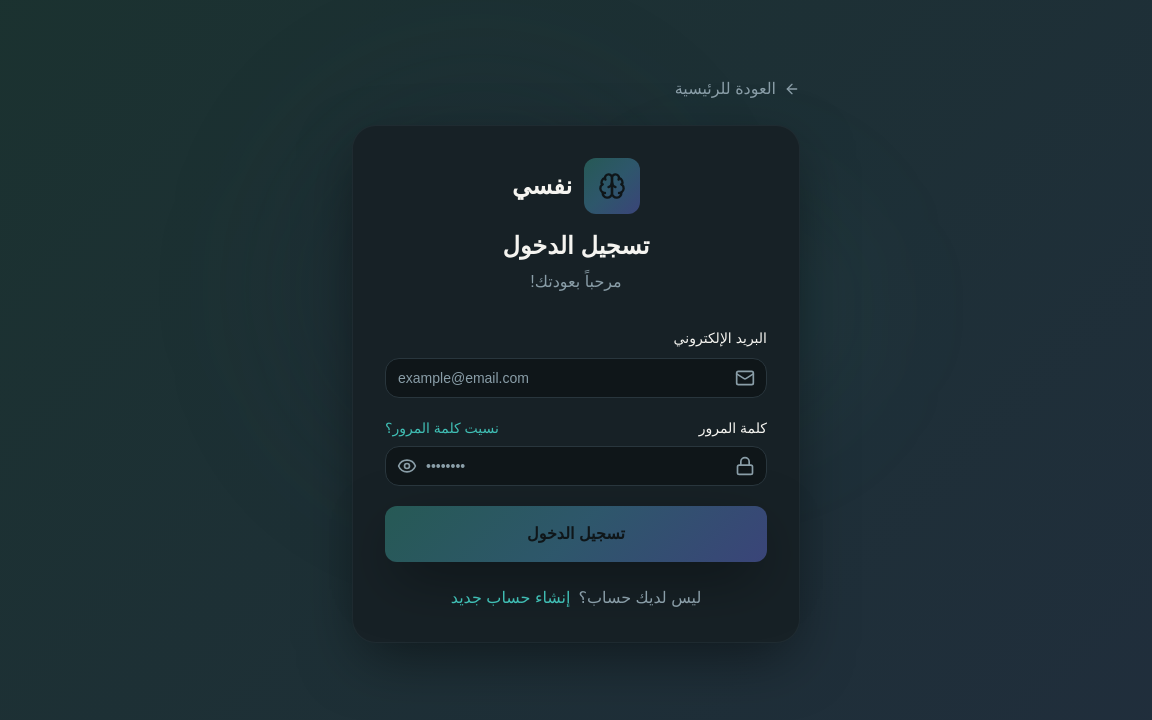
Test: Auth - Login flow › blocks invalid email and short password (edge cases)
The width and height of the screenshot is (1152, 720).
Type "not-an-email" into the field labelled "البريد الإلكتروني" at (576, 378), box [385,358,767,398]
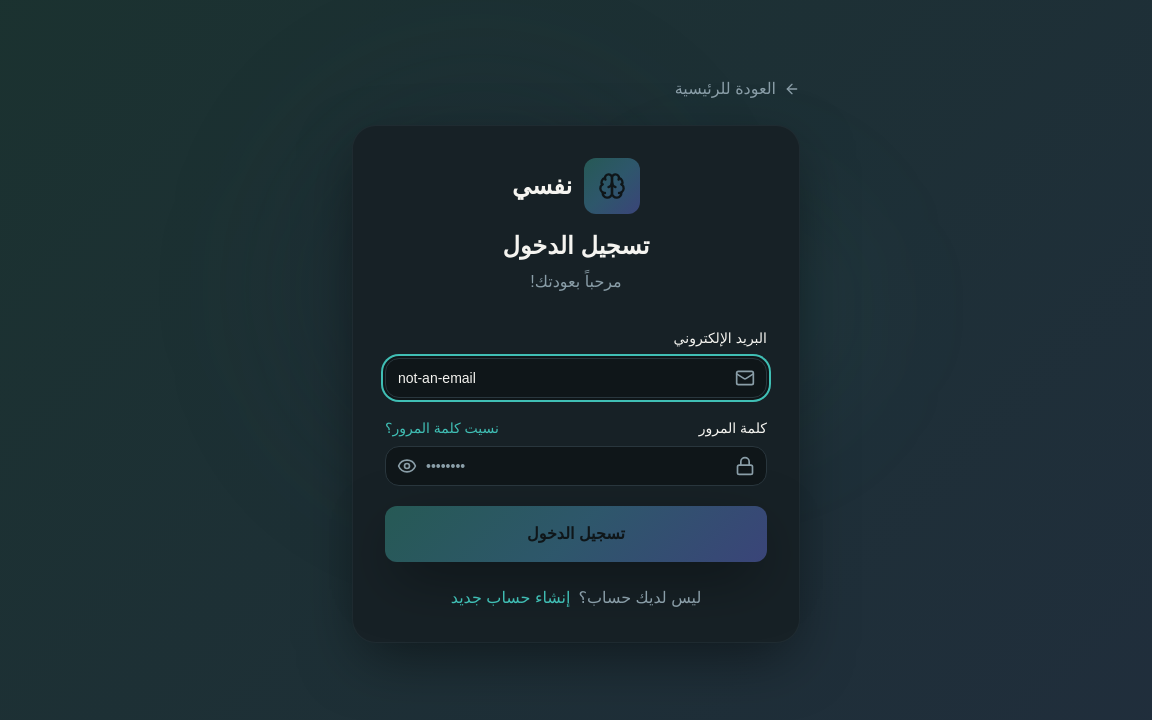
Type "123" into the password field labelled "كلمة المرور" at (576, 466), box [385,446,767,486]
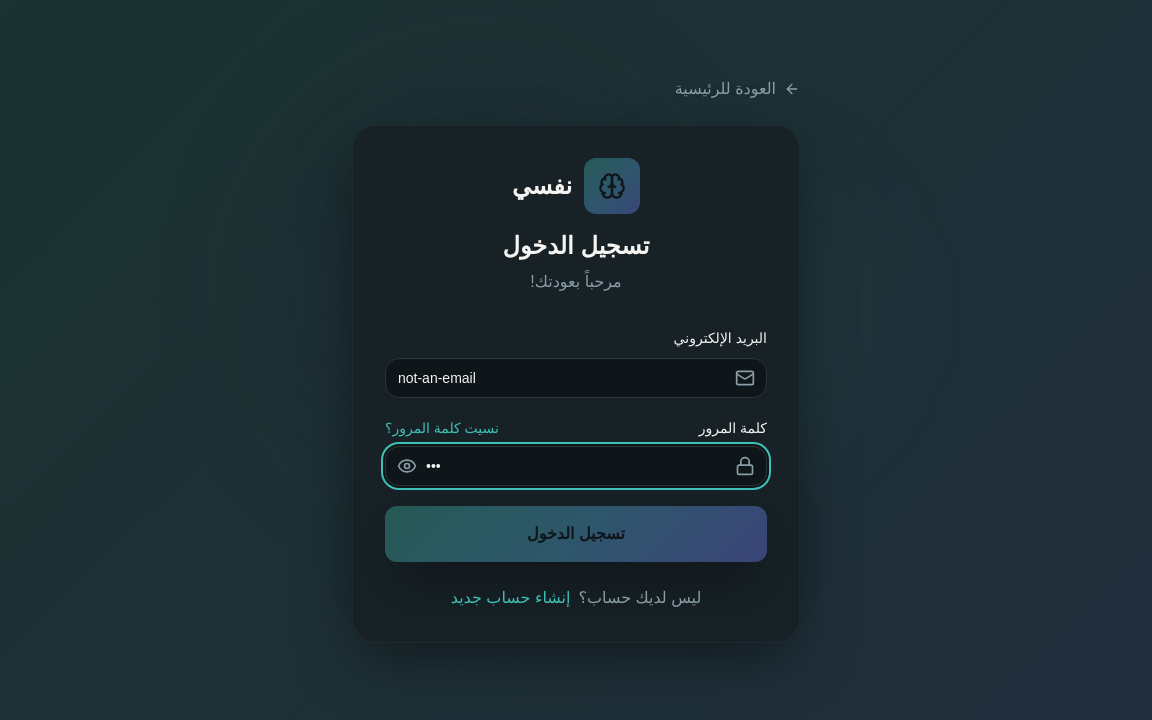
Click the button "تسجيل الدخول" at (576, 534), box [385,506,767,562]
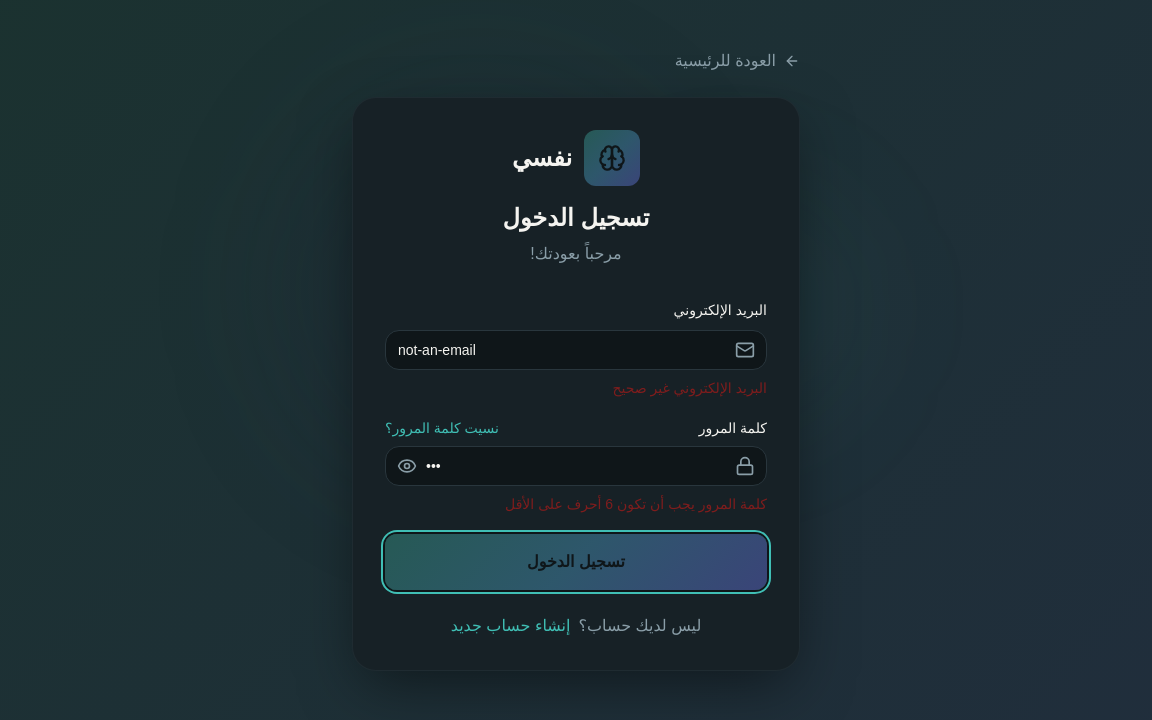
Result: the text "البريد الإلكتروني غير صحيح" is shown at [612,380,767,396]
Result: the text "كلمة المرور يجب أن تكون 6 أحرف على الأقل" is shown at [505,496,767,512]
